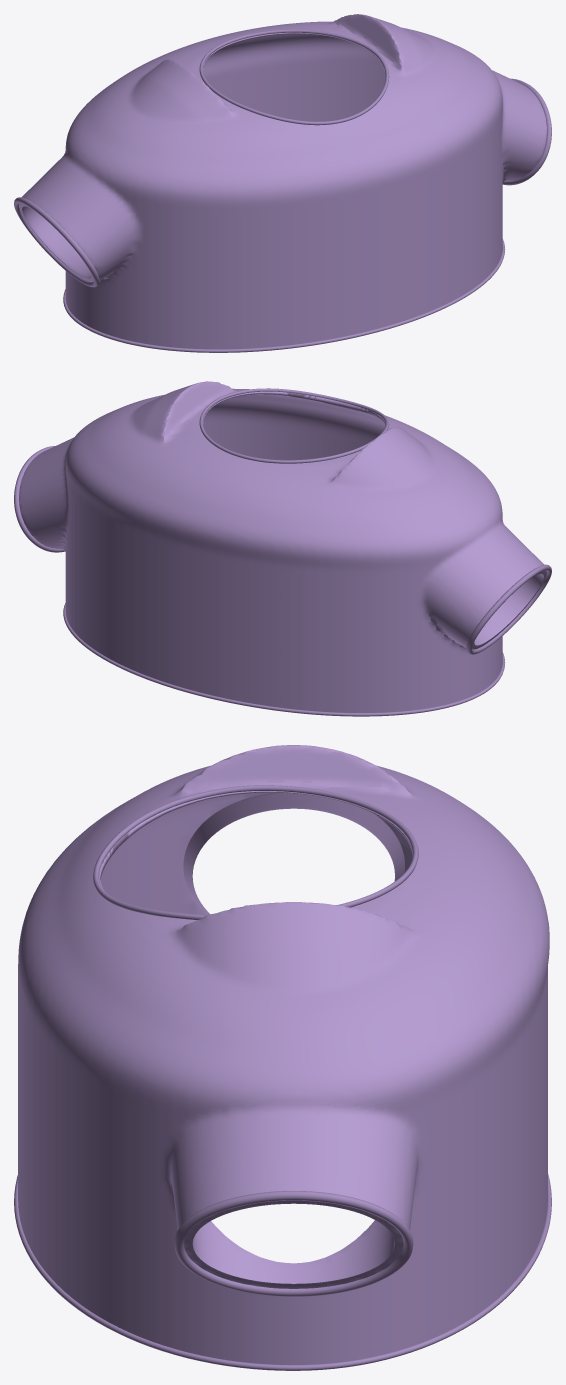
The model's file is Masculine-sweatshirt-top.glb.
3 renders of one model, top to bottom at view 1: azimuth 30°, elevation 25°; view 2: azimuth 150°, elevation 25°; view 3: azimuth 270°, elevation 25°, orthographic. The views are drawn at different scales.
Parts seen in each view (by area): view 1: Clothing / sweatshirt, Shirt / hem export, Neckline / seated binding export, Sleeve / downward cuff -1 export, Sleeve / downward cuff 1 export; view 2: Clothing / sweatshirt, Shirt / hem export, Neckline / seated binding export, Sleeve / downward cuff -1 export, Sleeve / downward cuff 1 export; view 3: Clothing / sweatshirt, Sleeve / downward cuff 1 export, Shirt / hem export, Neckline / seated binding export.
Boxes of the visible parts, <box> form: Clothing / sweatshirt: <box>19,14,546,349</box>; Shirt / hem export: <box>63,239,505,352</box>; Neckline / seated binding export: <box>199,29,389,125</box>; Sleeve / downward cuff -1 export: <box>14,197,99,287</box>; Sleeve / downward cuff 1 export: <box>502,78,551,185</box>; Clothing / sweatshirt: <box>19,381,546,712</box>; Shirt / hem export: <box>63,603,505,716</box>; Neckline / seated binding export: <box>199,388,389,463</box>; Sleeve / downward cuff -1 export: <box>466,564,551,654</box>; Sleeve / downward cuff 1 export: <box>14,446,65,552</box>; Clothing / sweatshirt: <box>18,745,549,1364</box>; Sleeve / downward cuff 1 export: <box>174,1191,413,1296</box>; Shirt / hem export: <box>14,1174,551,1370</box>; Neckline / seated binding export: <box>93,785,418,919</box>.
Bounding box in the file's own units: 0.9686 × 0.4261 × 0.5442.
